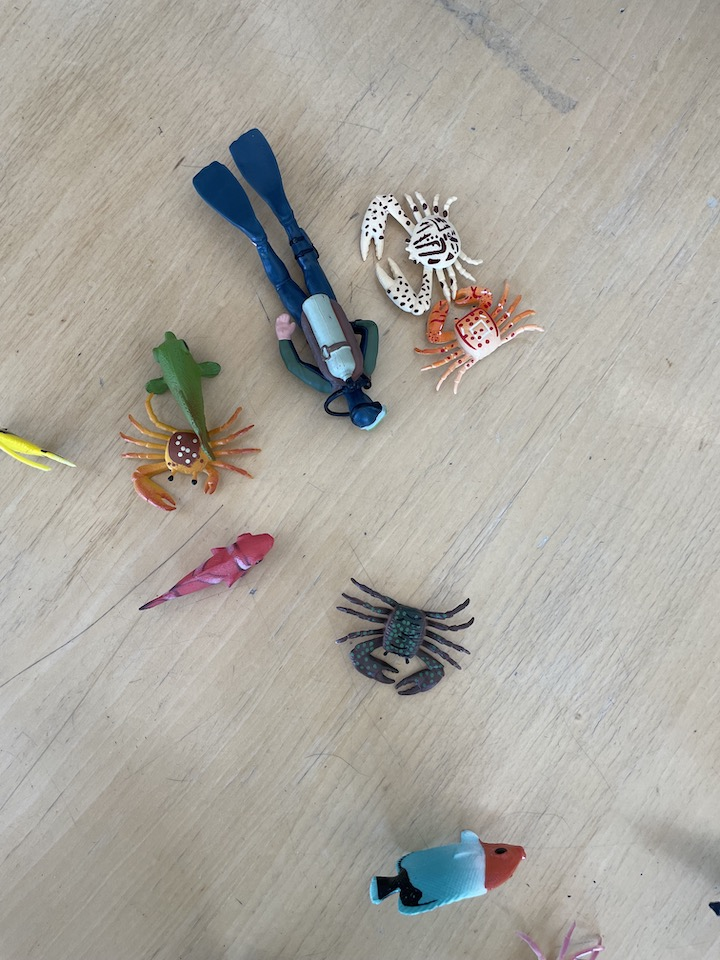crab: (336, 576, 481, 700), (358, 192, 487, 326), (117, 396, 261, 513), (409, 271, 547, 393), (514, 918, 610, 960)
danger: (1, 420, 80, 483)
diver: (180, 124, 392, 437)
fish: (364, 833, 529, 920), (135, 525, 280, 617), (145, 327, 227, 469)
